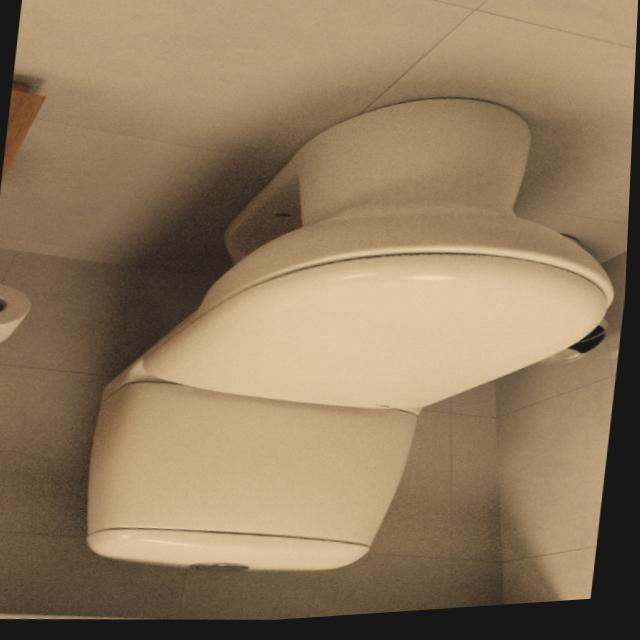toilet: (81, 71, 636, 609)
